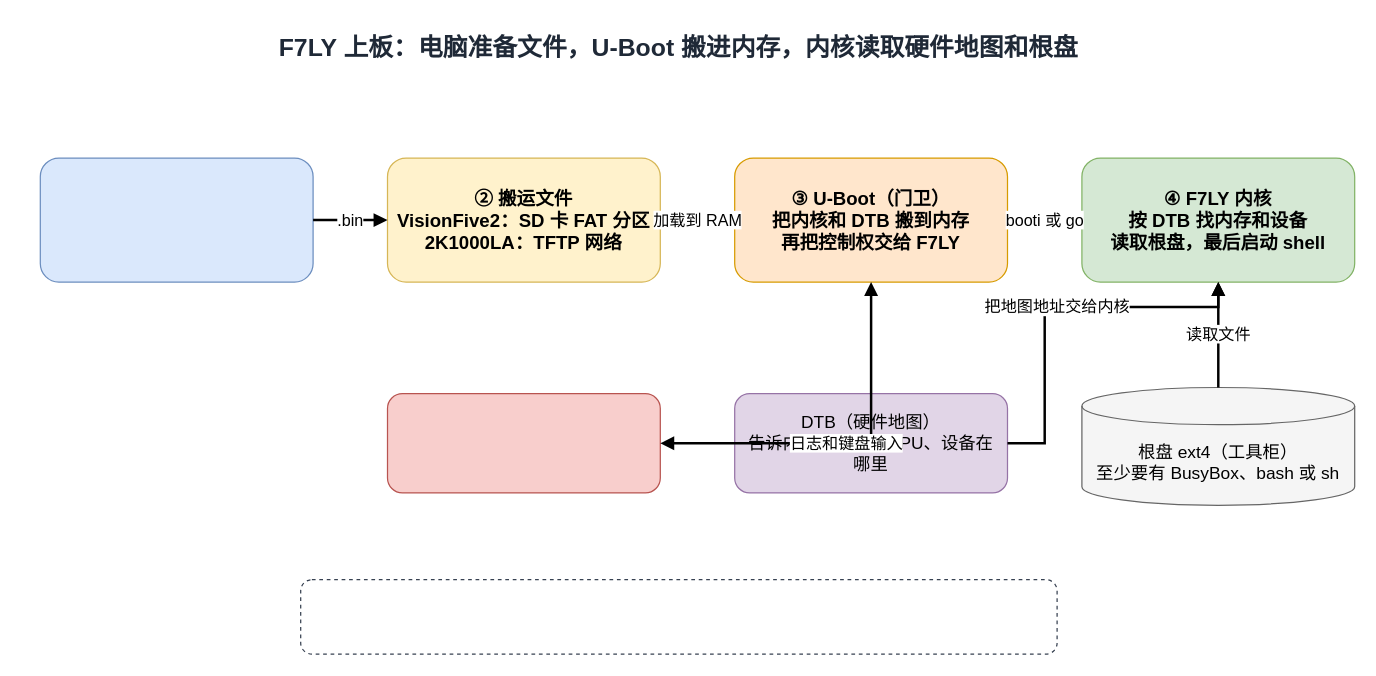
Image size: 1376x676. Some labels were removed from this diagram. The shapes that lost their labels are listed below. From the top down, each one's centre as x and y in pixels, then its label:
point 176,219: ① 开发电脑 把源码编译成 kernel-*.bin 像把课本装进书包
point 523,442: 串口终端（对讲机） 你从这里看日志、输入命令
point 678,616: 最重要的区别：VisionFive2 用 booti；2K1000LA 用 go。两者都要把正确 DTB 交给内核。
